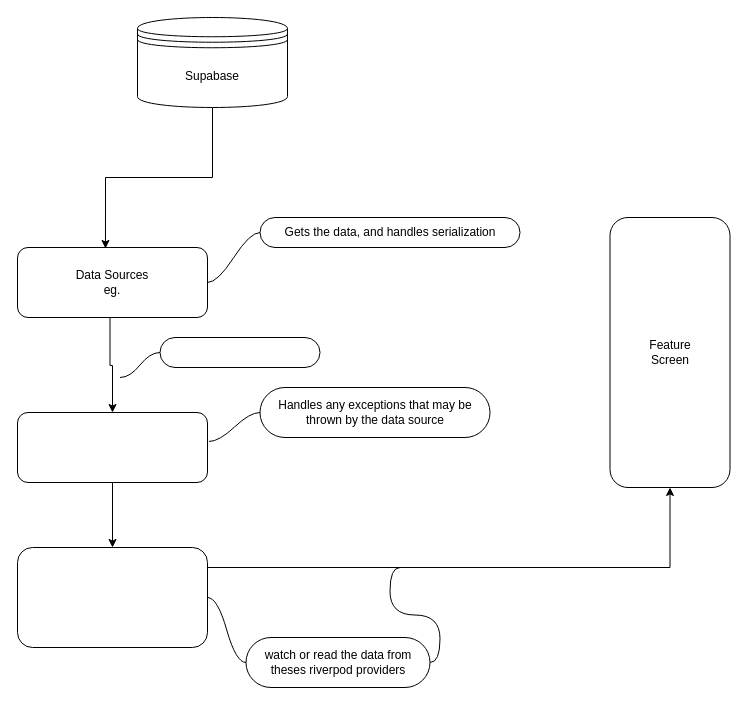
Some shapes in this 748 by 705 pixel diagram are drawn without their labels. Here are the shapes that lost their labels. From the top down, the centre of each, then its label:
the point at 239,352: Through Data models
the point at 112,447: Repositories
the point at 112,597: Provider(Riverpod) - FutureProvider - StreamProvider
